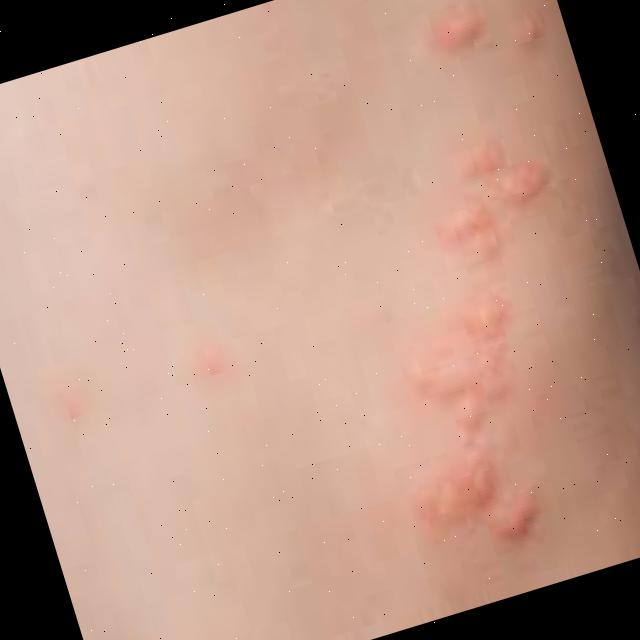tahta-kurusu: (353, 272, 602, 578), (410, 170, 517, 278), (485, 1, 568, 94), (433, 115, 520, 201), (493, 135, 576, 224), (395, 1, 499, 72)
